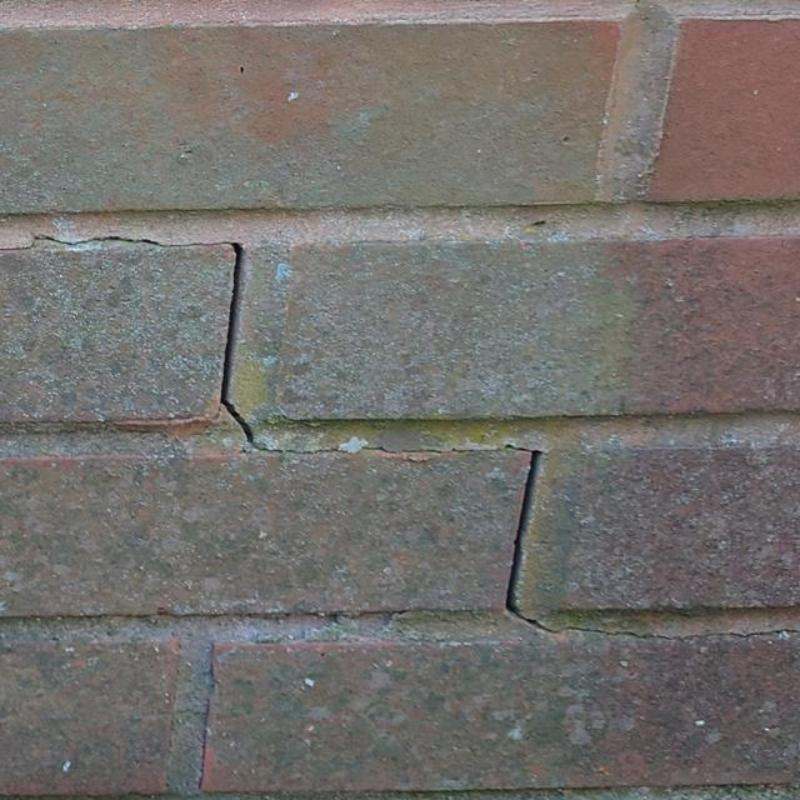pothole: (506, 452, 556, 632), (222, 242, 253, 448), (0, 235, 234, 252), (251, 442, 532, 455), (556, 626, 799, 639)
